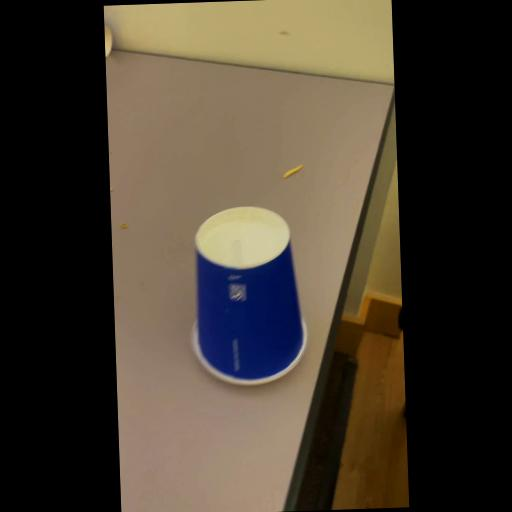lp_paper_cup: (162, 201, 328, 396)
